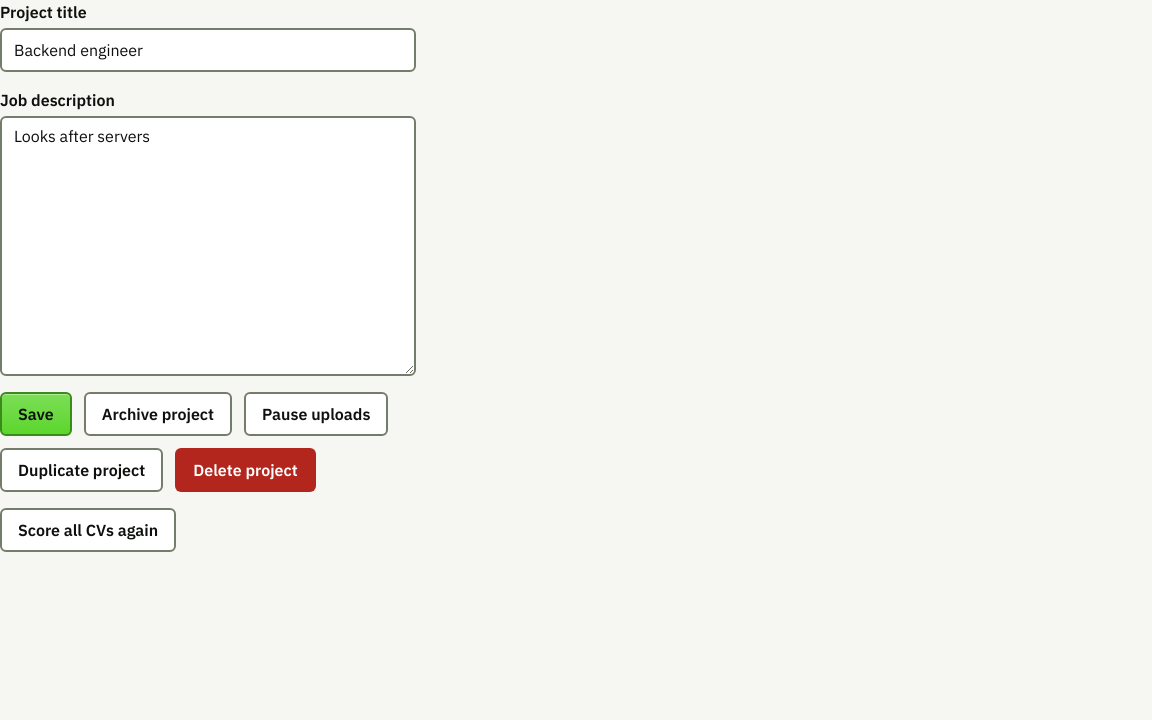
Test: project settings › Pause uploads asks first, then pauses and offers Resume
Click the button "Pause uploads" at (316, 414), box [244,392,388,436]
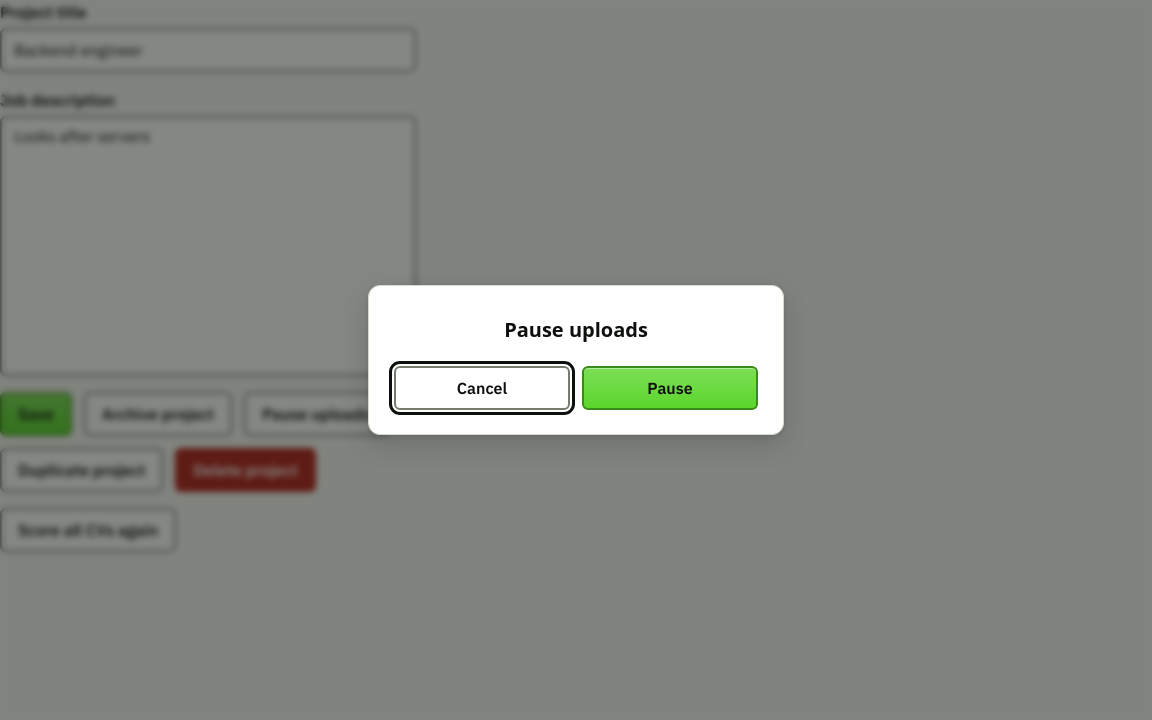
Click the button "Pause" at (670, 388), box [582,366,758,410]
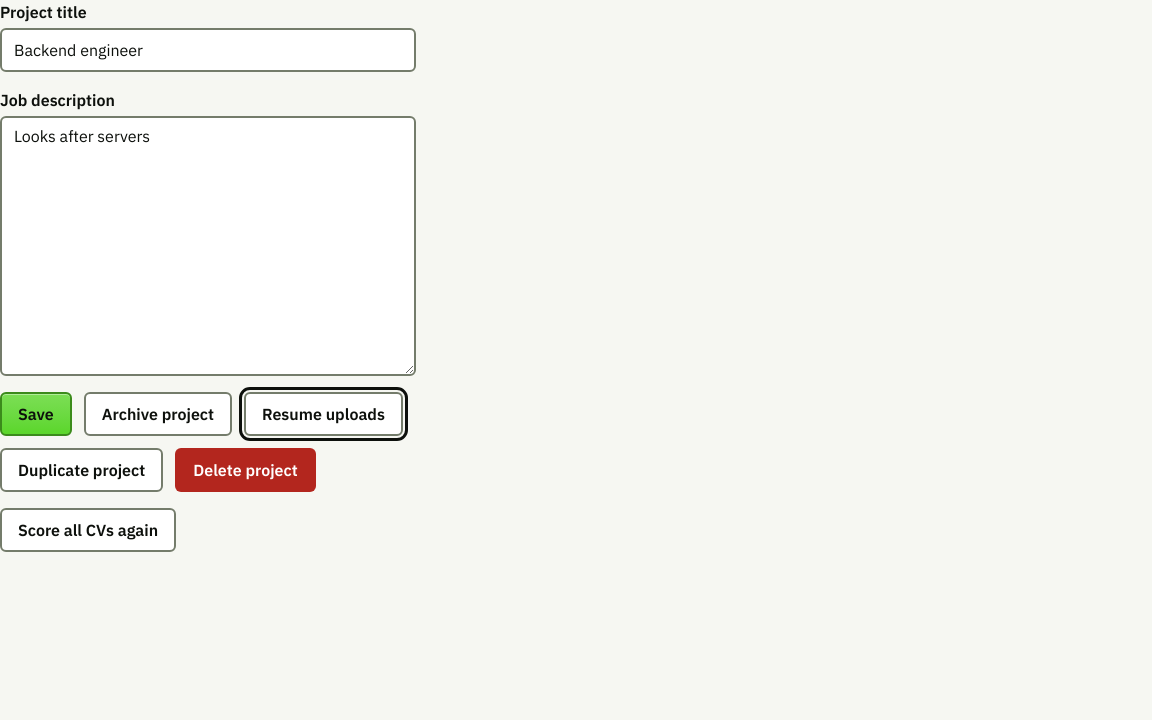
expect the button "Resume uploads" is shown: met, box [244,392,403,436]
